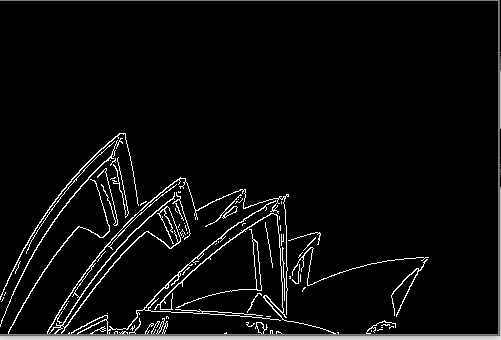opera house: (7, 107, 450, 335)
